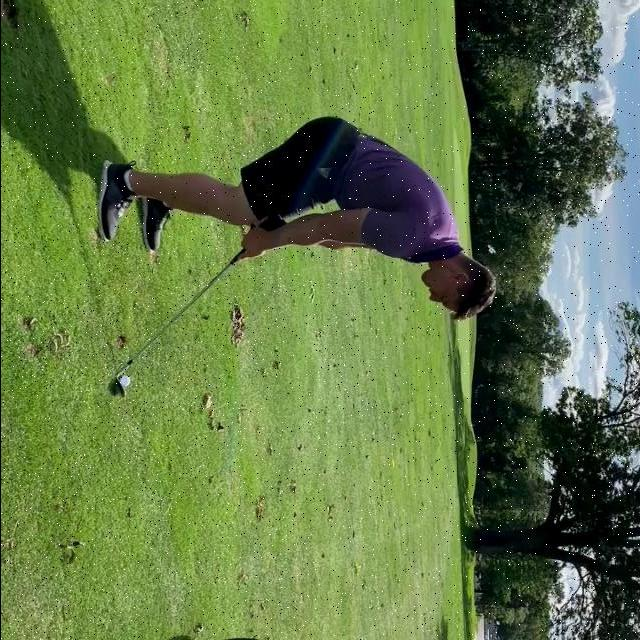golf ball: (119, 375, 129, 387)
golf club-handle: (111, 214, 282, 398)
golf club-head: (112, 378, 125, 398)
